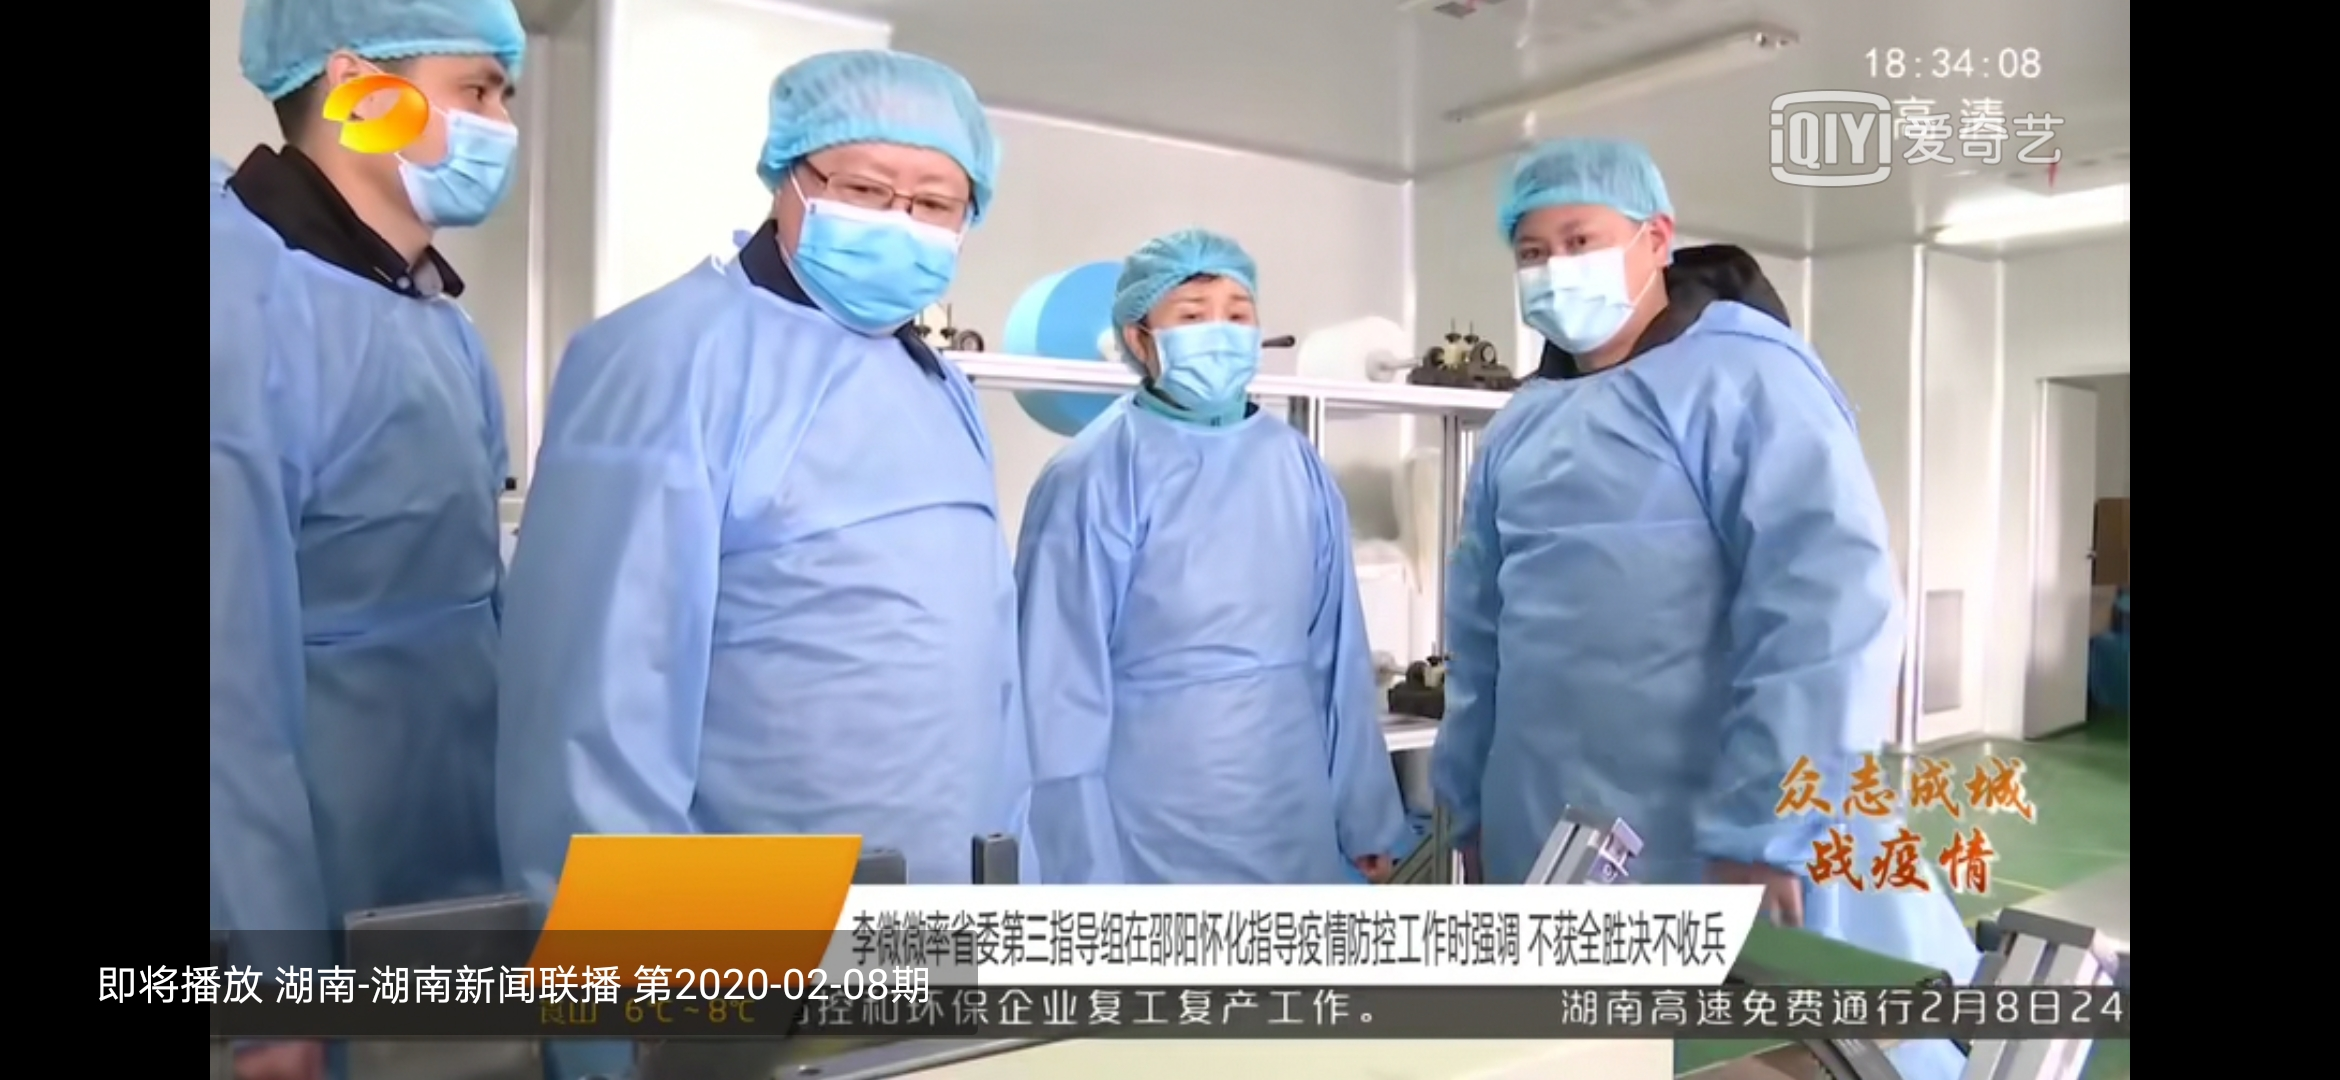correctlyWear: (327, 46, 531, 227), (792, 163, 975, 327), (1506, 218, 1677, 358), (1125, 289, 1261, 424)
